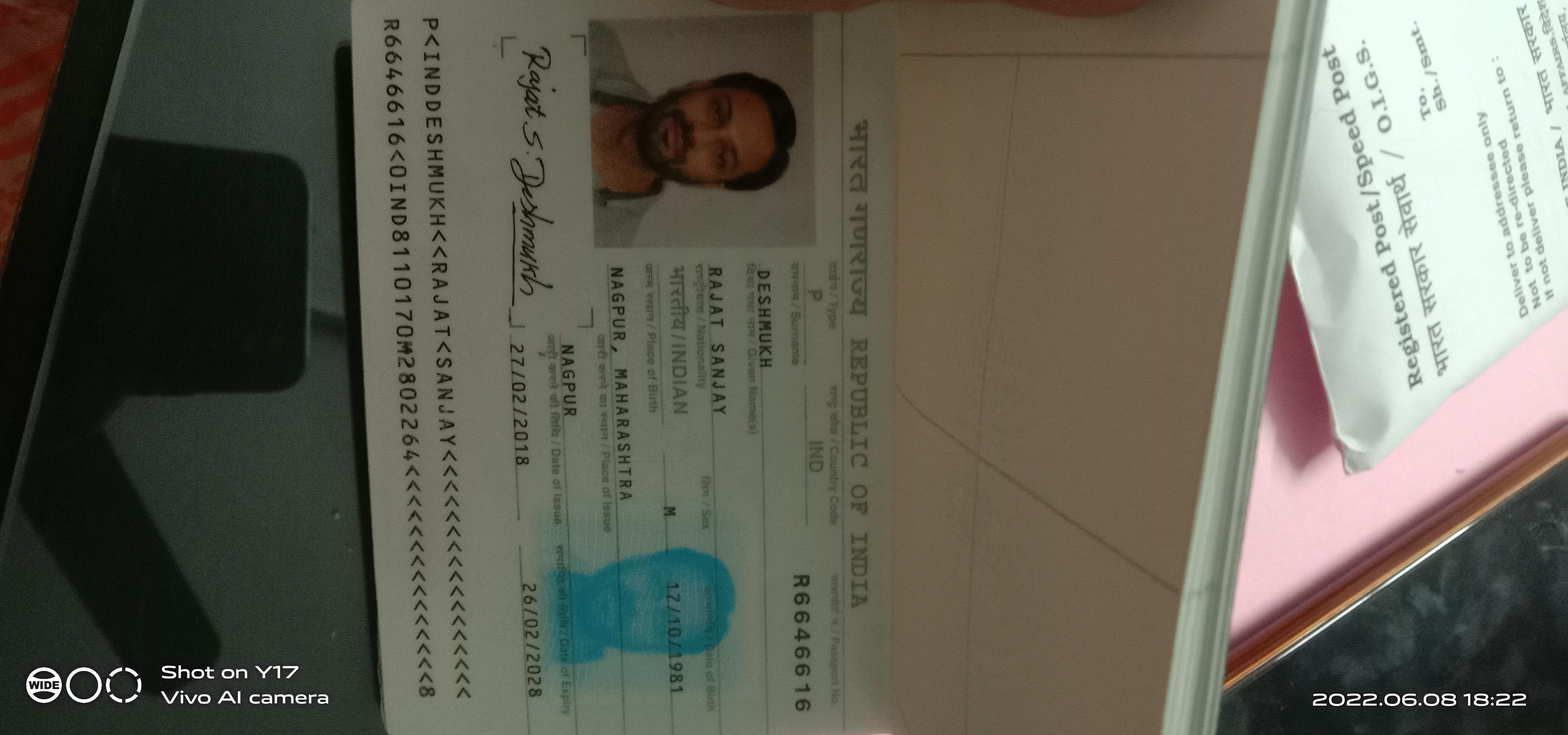DOB: (660, 564, 696, 701)
Surname: (754, 260, 780, 378)
country_code: (798, 419, 830, 490)
date_of_expiry: (514, 565, 548, 706)
date_of_issue: (498, 334, 540, 482)
details: (375, 5, 484, 710)
name: (705, 254, 737, 429)
nationality: (660, 257, 697, 427)
passport_no: (784, 554, 825, 723)
photo: (590, 19, 803, 237)
place_of_birth: (607, 262, 643, 512)
place_of_issue: (553, 329, 586, 423)
sex: (658, 483, 683, 535)
sign: (510, 41, 561, 301)
type: (799, 271, 829, 317)
